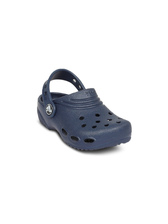shoes: (32, 67, 137, 152)
